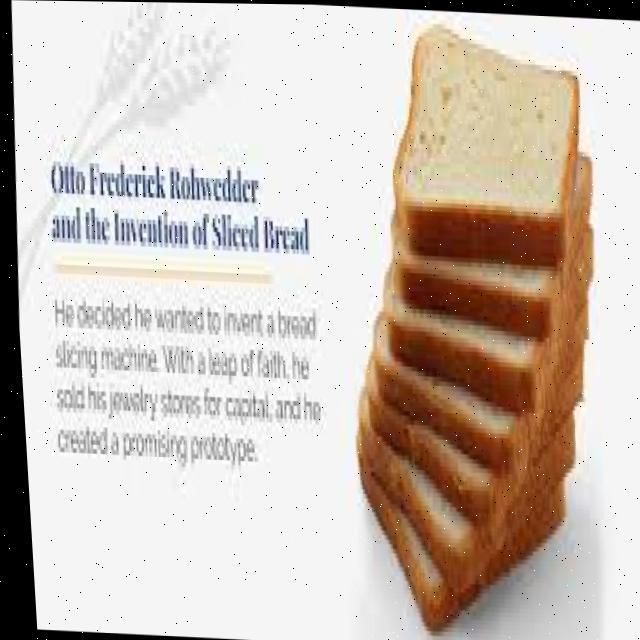Bread: (392, 27, 575, 262), (356, 401, 479, 588), (355, 409, 452, 626), (362, 357, 489, 518), (369, 327, 510, 467), (381, 291, 536, 409), (390, 232, 551, 336)
